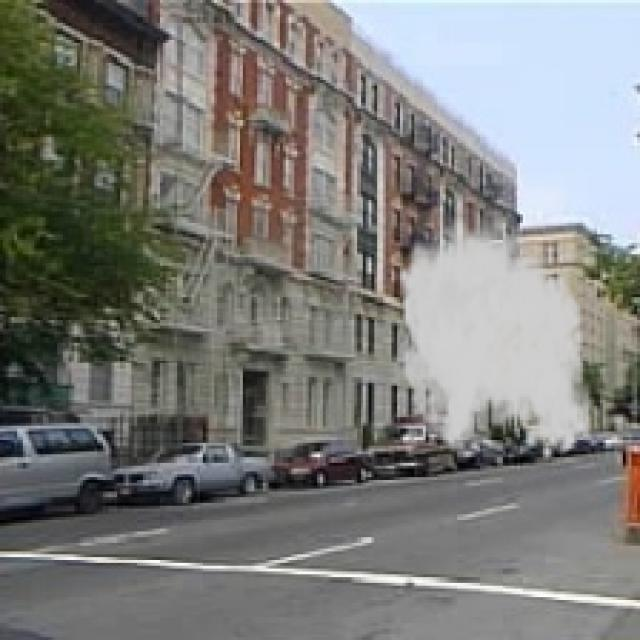smoke: (386, 206, 594, 463)
